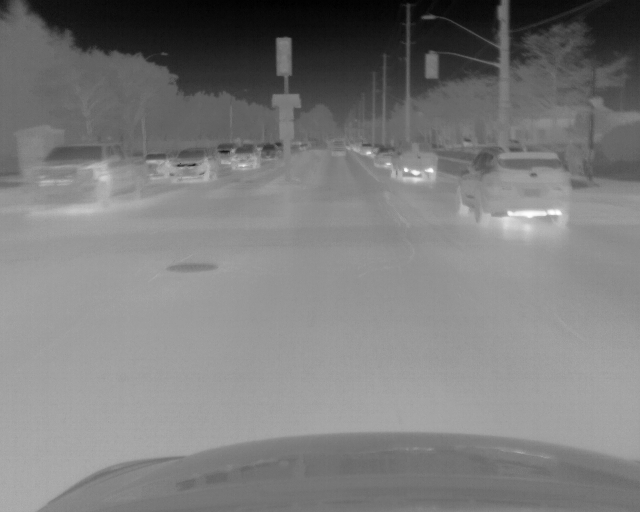car: (455, 145, 571, 227), (33, 144, 148, 203), (390, 143, 436, 181), (172, 146, 216, 181), (231, 146, 260, 169), (144, 152, 169, 174), (260, 143, 281, 161), (373, 149, 393, 167), (217, 144, 235, 159)
